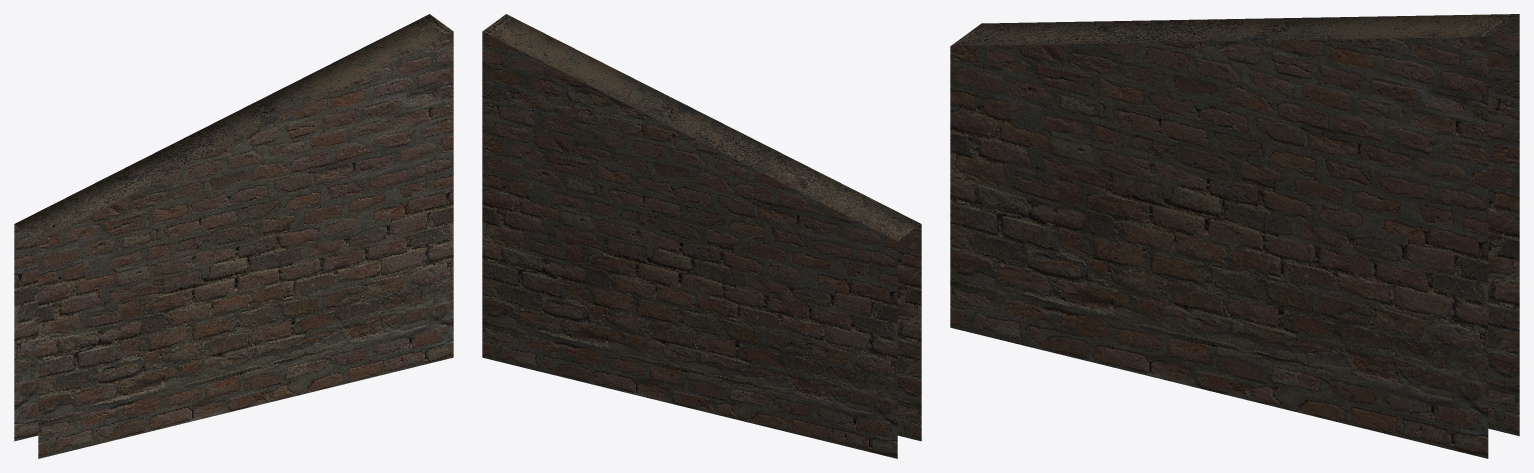
Rendered from wall_top_part_hr_3.glb.
The picture shows the model from 3 angles, left to right: view 1: azimuth 30°, elevation 25°; view 2: azimuth 150°, elevation 25°; view 3: azimuth 330°, elevation 25°; orthographic projection. The views are drawn at different scales.
Visible parts, largest first — view 1: wall_top_part_hr_3; view 2: wall_top_part_hr_3; view 3: wall_top_part_hr_3.
Part boxes in pixels (x1,y1,x2,y2): wall_top_part_hr_3: [14, 14, 453, 458]; wall_top_part_hr_3: [482, 14, 921, 458]; wall_top_part_hr_3: [950, 14, 1519, 458].
Size of the model in its own units: 4 by 3 by 0.4.
2 materials, 2 textured.
